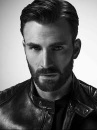male: (16, 6, 85, 94)
